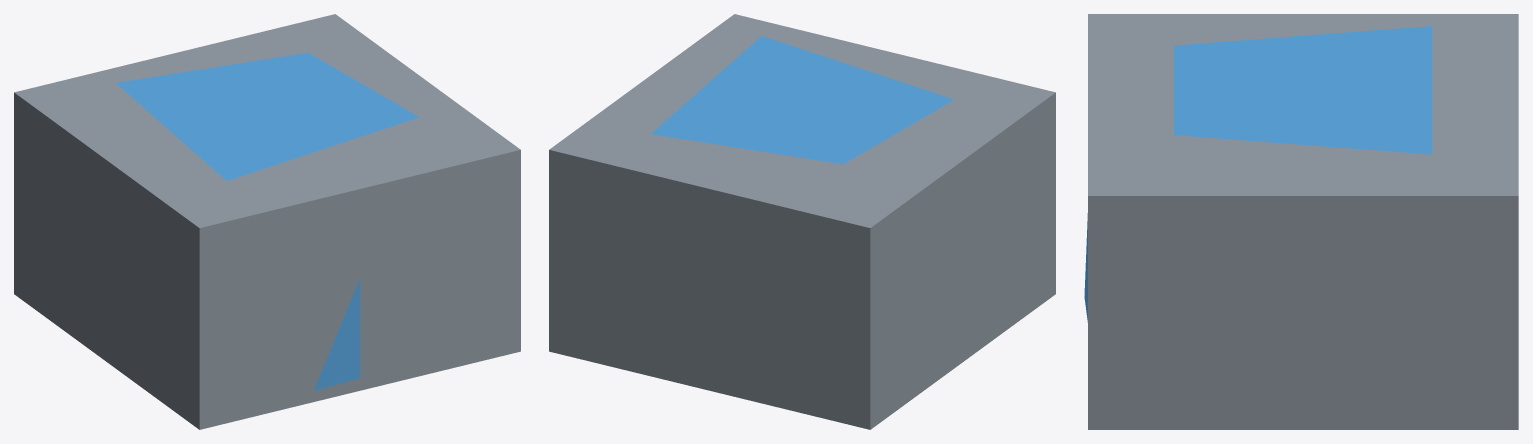
The model's file is AL_GunTurret_LOD1.glb.
3 renders of one model, left to right at view 1: azimuth 30°, elevation 25°; view 2: azimuth 150°, elevation 25°; view 3: azimuth 270°, elevation 25°, orthographic. The views are drawn at different scales.
Visible parts, largest first — view 1: EntranceGate; view 2: EntranceGate; view 3: EntranceGate.
Boxes of the visible parts, <box> form: EntranceGate: <box>14,14,520,429</box>; EntranceGate: <box>549,14,1055,429</box>; EntranceGate: <box>1084,14,1518,429</box>.
Size of the model in its own units: 400 by 265 by 403.
